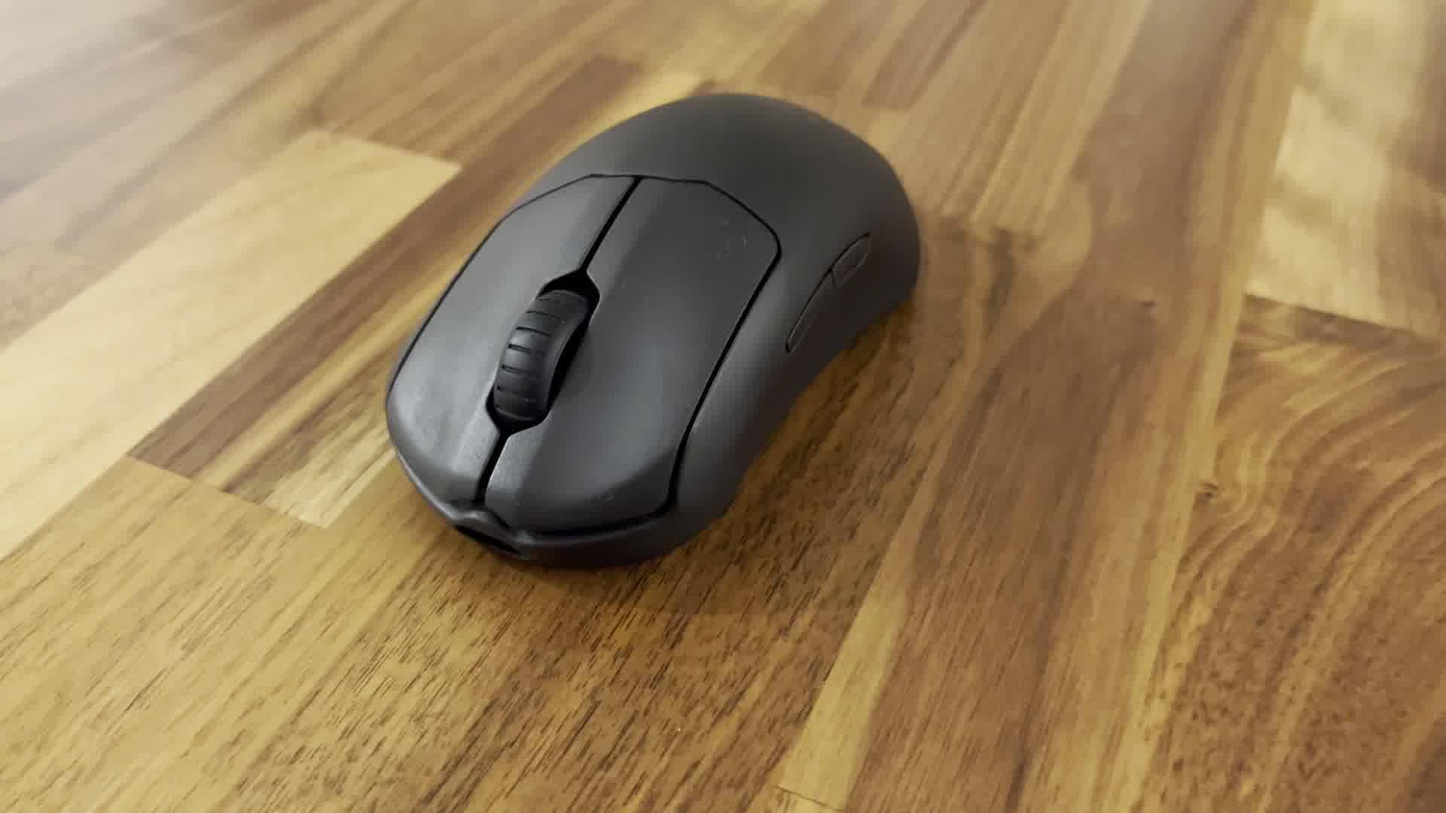mouse: (376, 84, 927, 575)
